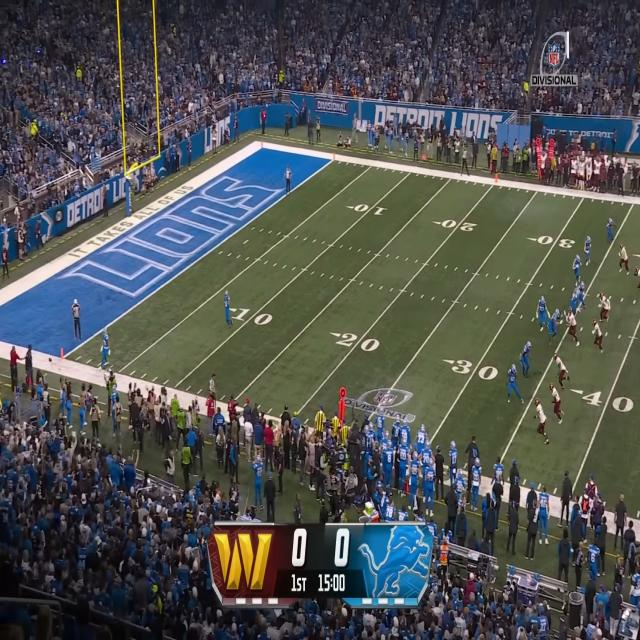Ball: (48, 357, 53, 364)
